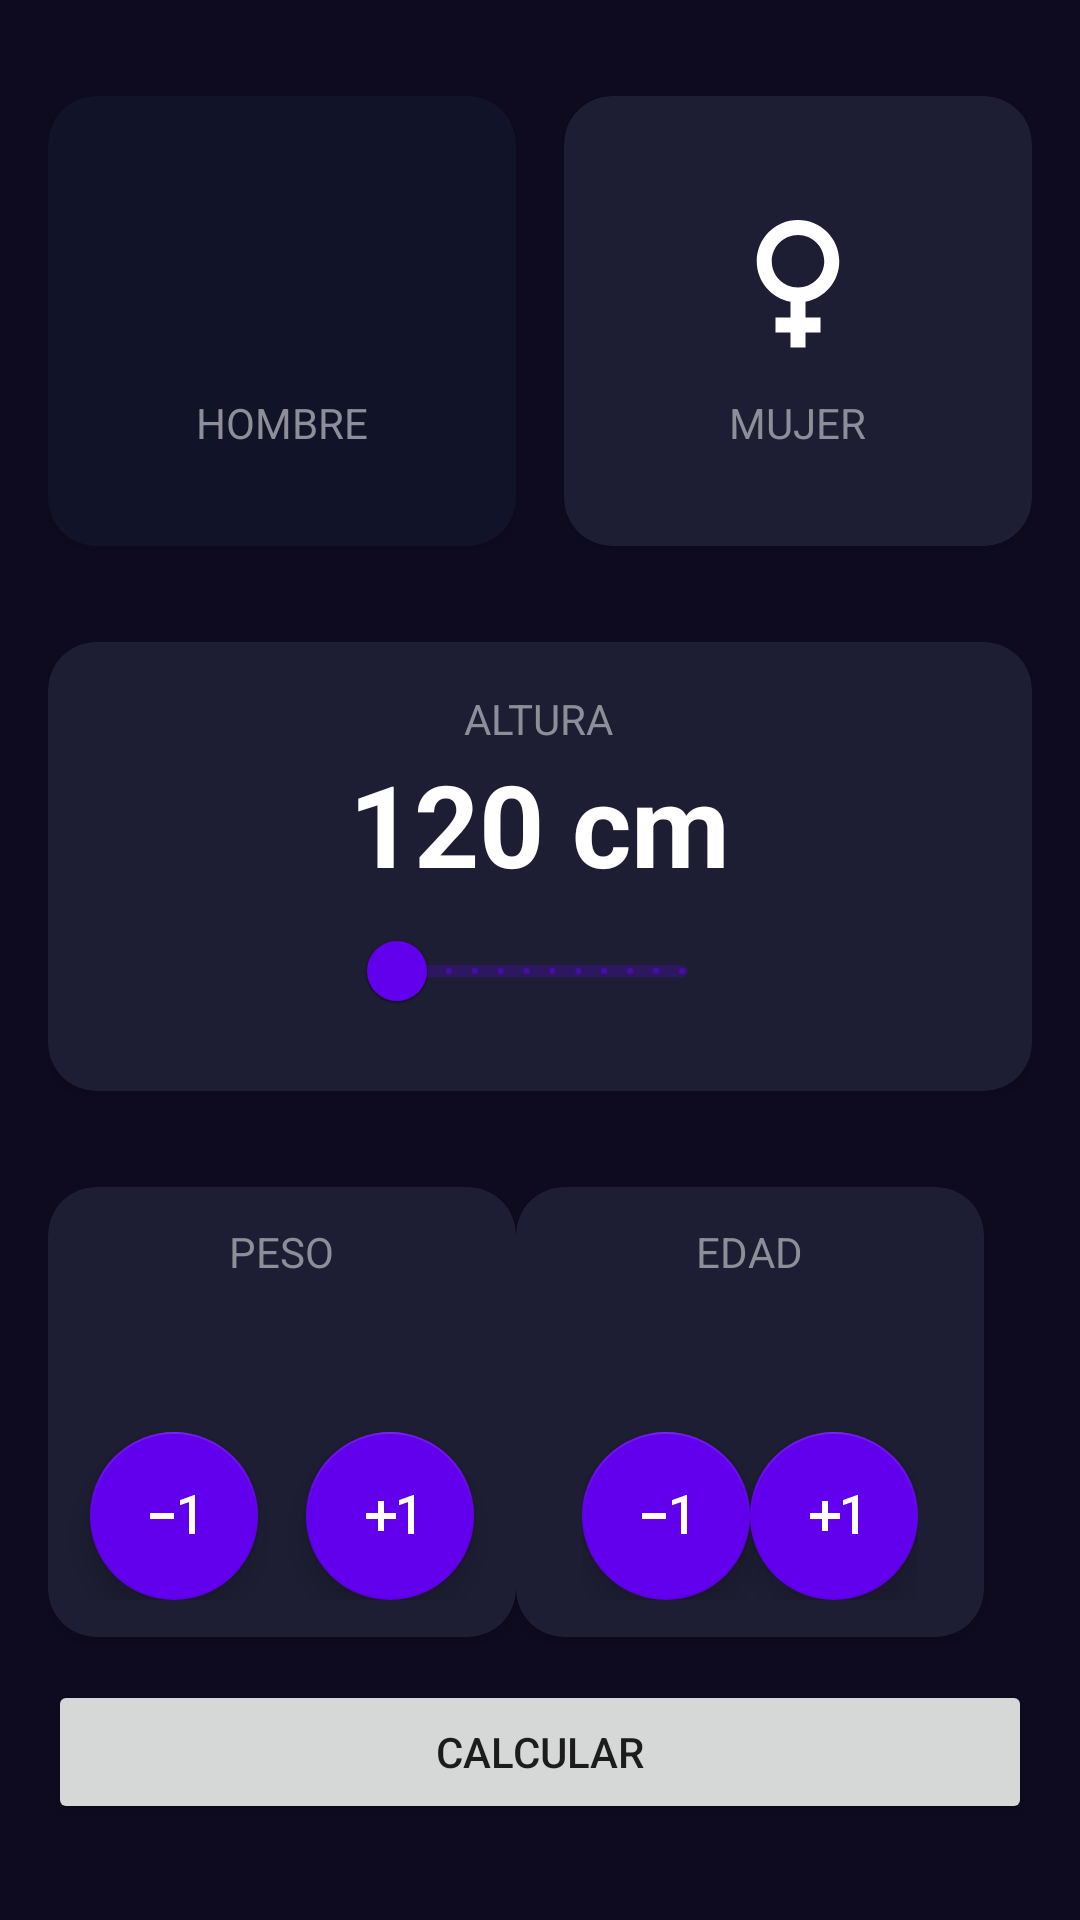

Named icons in this screenshot (1080px x 1920px) and their centers, (x,y):
female: (798,284)
plus: (390,1516), (834,1516)
substract: (174,1516), (666,1516)
